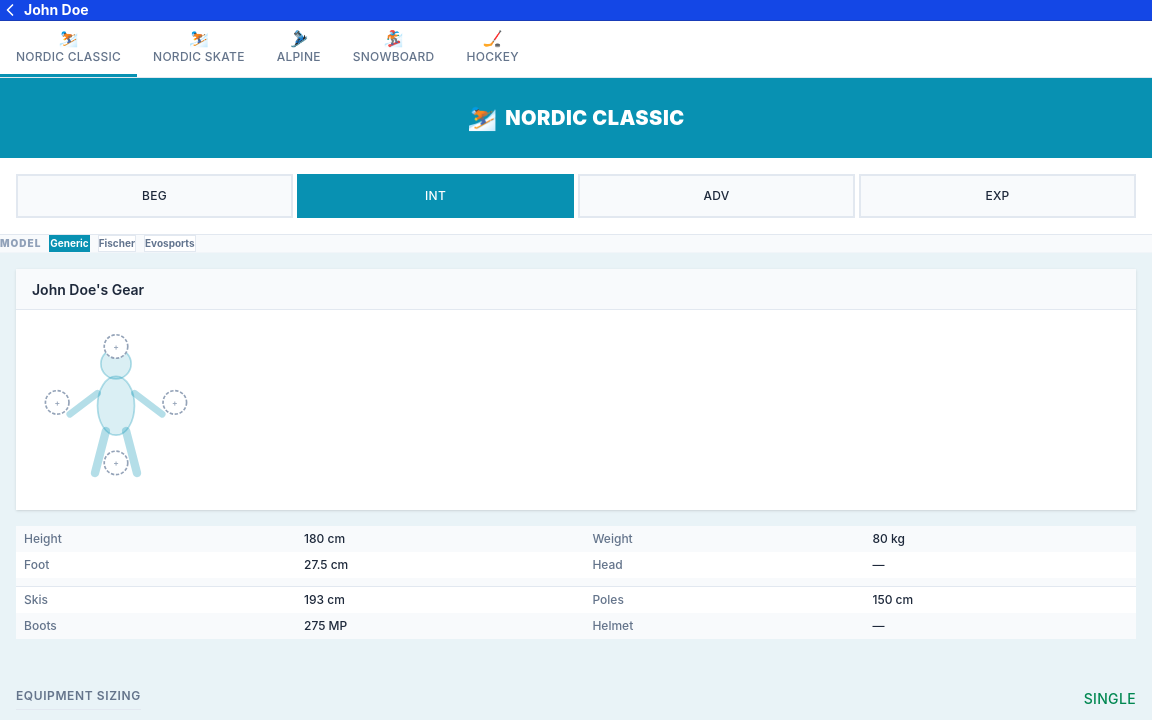
it: SportSizing › tab switching › switches to Alpine tab when clicked
This screenshot has width=1152, height=720.
Click the button "🎿 Alpine": (299, 49) x1=261 y1=21 x2=337 y2=77
(page scrolled)
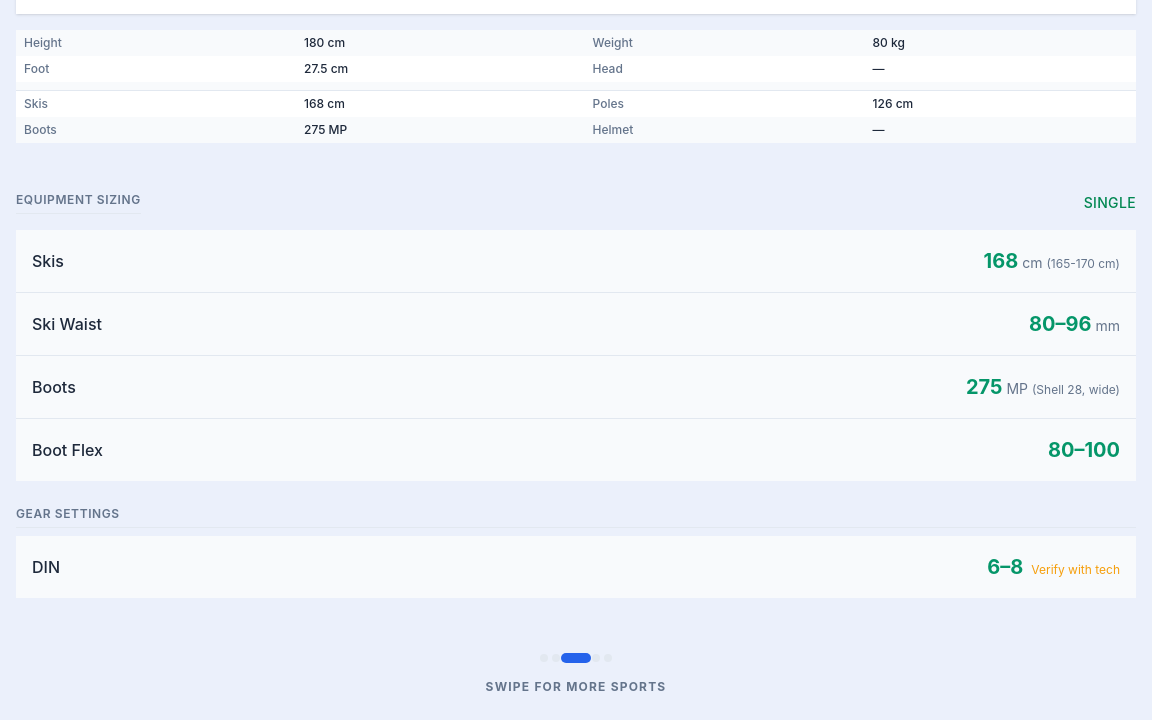
Expected: the text "DIN" is shown, x1=32 y1=555 x2=60 y2=579
Expected: the text "Boot Flex" is shown, x1=32 y1=438 x2=103 y2=462
